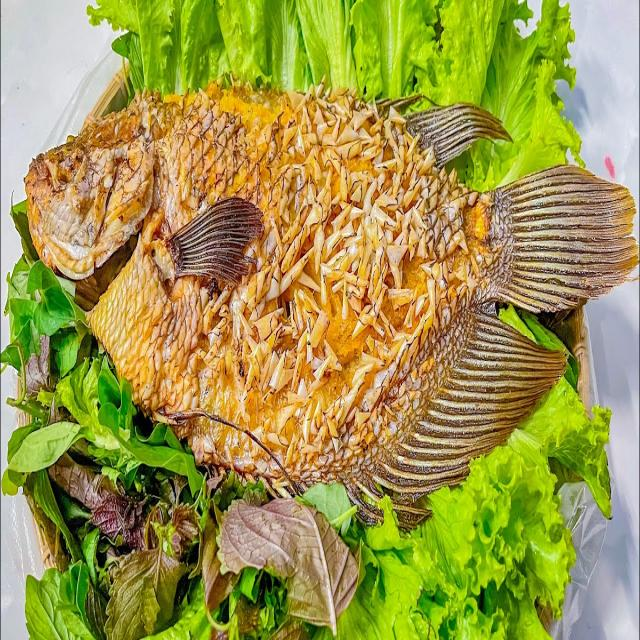Wet Waste: (22, 67, 640, 535)
